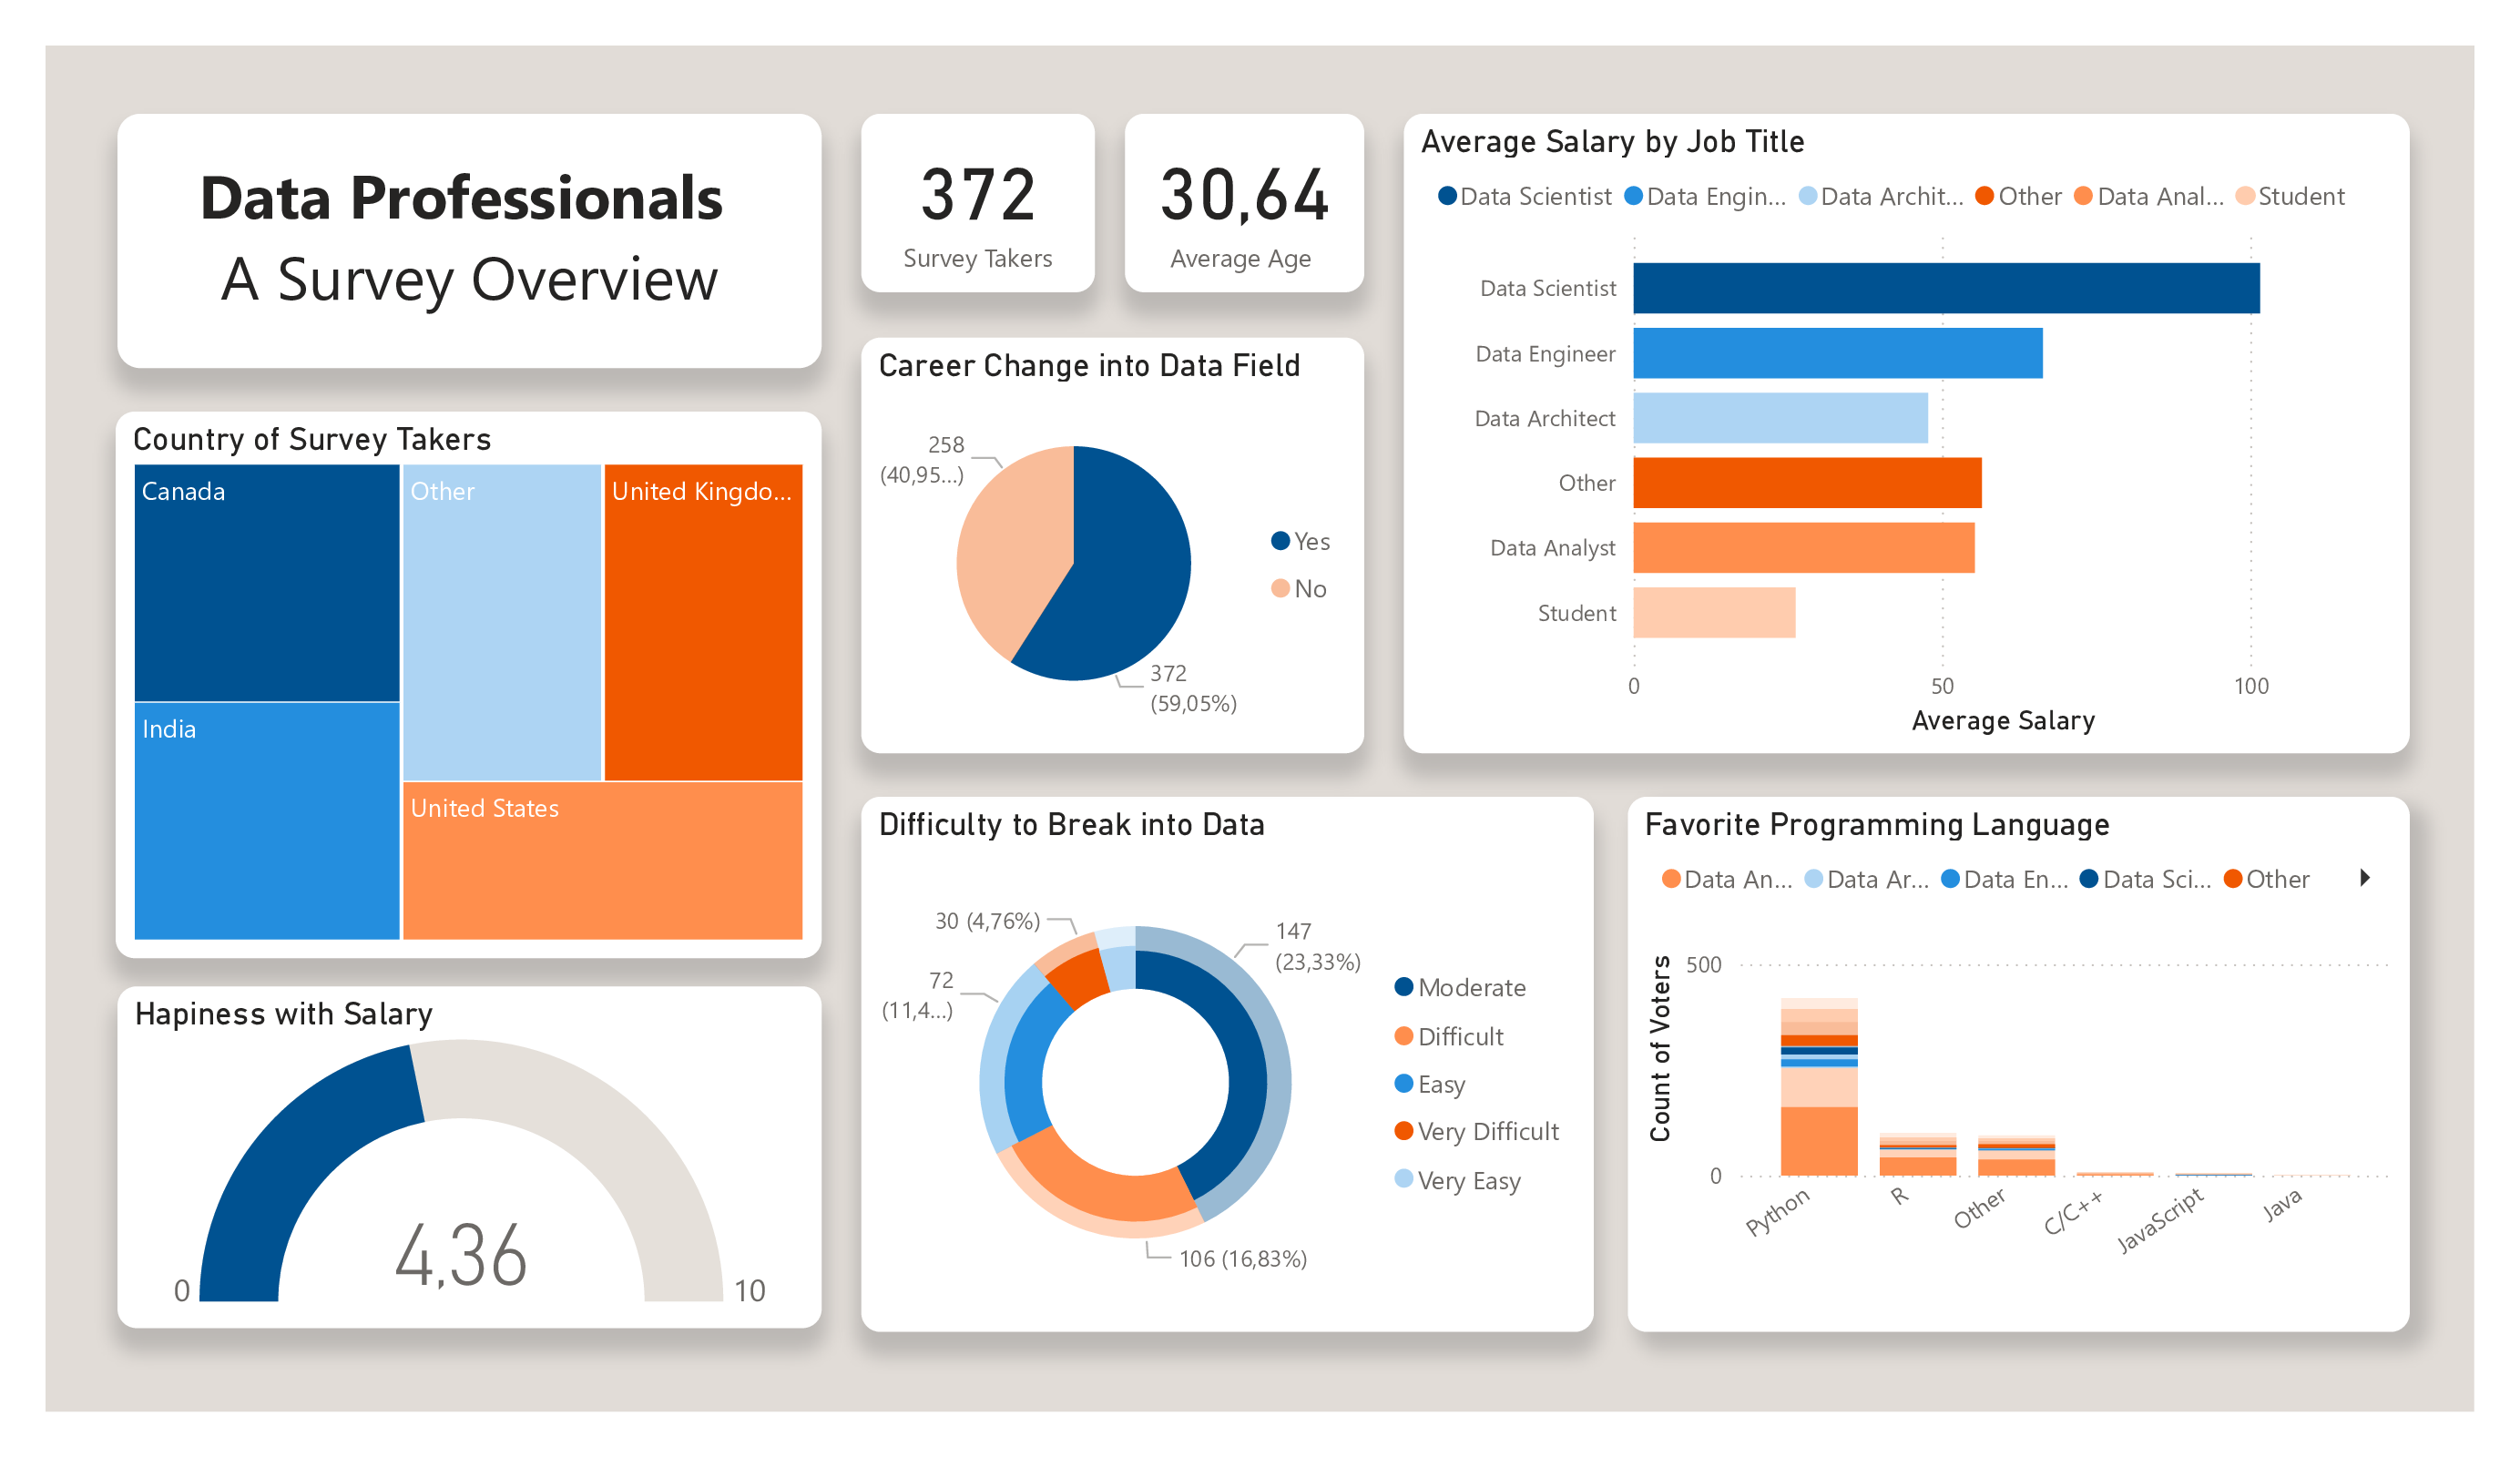

The page's visual inventory and layout, read from the dashboard file:
{"tool":"powerbi","page":{"name":"Page 1","canvas":[1280,720],"ordinal":0},"visuals":[{"type":"textbox","box":[38.1,36.4,370.6,133.9],"z":0},{"type":"card","fields":{"Values":["CountNonNull(Data Professional Survey.Unique ID)"]},"box":[430,36,123,94],"z":1000},{"type":"card","fields":{"Values":["Avg(Data Professional Survey.Q10 - Current Age)"]},"box":[569,36,126,94],"z":2000},{"type":"barChart","title":"Average Salary by Job Title","fields":{"Category":["Data Professional Survey.Q1 - Which Title Best Fits your Current Role?.1"],"Y":["Avg(Data Professional Survey.Average Salary)"],"Series":["Data Professional Survey.Q1 - Which Title Best Fits your Current Role?.1"]},"box":[716.5,36.4,529.4,336.9],"z":3000},{"type":"columnChart","title":"Favorite Programming Language","fields":{"Category":["Data Professional Survey.Q5 - Favorite Programming Language.1"],"Y":["CountNonNull(Data Professional Survey.Unique ID)"],"Series":["Data Professional Survey.Q1 - Which Title Best Fits your Current Role?.1"]},"box":[834,396,412,282],"z":4000},{"type":"treemap","title":"Country of Survey Takers","fields":{"Group":["Data Professional Survey.Q11 - Which Country do you live in?.1"],"Values":["Count(Data Professional Survey.Q11 - Which Country do you live in?.1)"]},"box":[37.2,193.3,371.5,288.2],"z":5000},{"type":"gauge","title":"Hapiness with Salary","fields":{"Y":["Avg(Data Professional Survey.Q6 - How Happy are you in your Current Position with the following? (Salary))"],"MinValue":["Min(Data Professional Survey.Q6 - How Happy are you in your Current Position with the following? (Salary))"],"MaxValue":["Max(Data Professional Survey.Q6 - How Happy are you in your Current Position with the following? (Salary))"]},"box":[38.1,495.7,370.6,180],"z":6000},{"type":"donutChart","title":"Difficulty to Break into Data","fields":{"Category":["Data Professional Survey.Q7 - How difficult was it for you to break into Data?"],"Y":["CountNonNull(Data Professional Survey.Q7 - How difficult was it for you to break into Data?)"],"Series":["Data Professional Survey.Q7 - How difficult was it for you to break into Data?"]},"box":[430,396,386,282],"z":7000},{"type":"pieChart","title":"Career Change into Data Field","fields":{"Category":["Data Professional Survey.Q2 - Did you switch careers into Data?"],"Y":["CountNonNull(Data Professional Survey.Q2 - Did you switch careers into Data?)"]},"box":[430,154,265,219],"z":8000}]}

Visuals, with their boxes in screenshot pixels (x1, y1, x2, y2):
textbox: 117:115:821:369
card - CountNonNull(Data Professional Survey.Unique ID): 862:114:1095:292
card - Avg(Data Professional Survey.Q10 - Current Age): 1126:114:1364:292
"Average Salary by Job Title" barChart: 1405:115:2410:754
"Favorite Programming Language" columnChart: 1628:797:2410:1331
"Country of Survey Takers" treemap: 117:413:821:959
"Hapiness with Salary" gauge: 117:986:821:1328
"Difficulty to Break into Data" donutChart: 862:797:1594:1331
"Career Change into Data Field" pieChart: 862:338:1364:753
